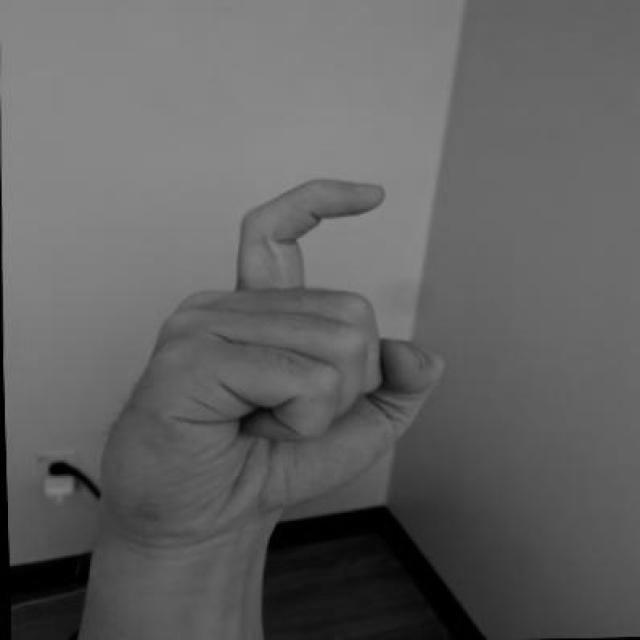X: (68, 171, 455, 545)
